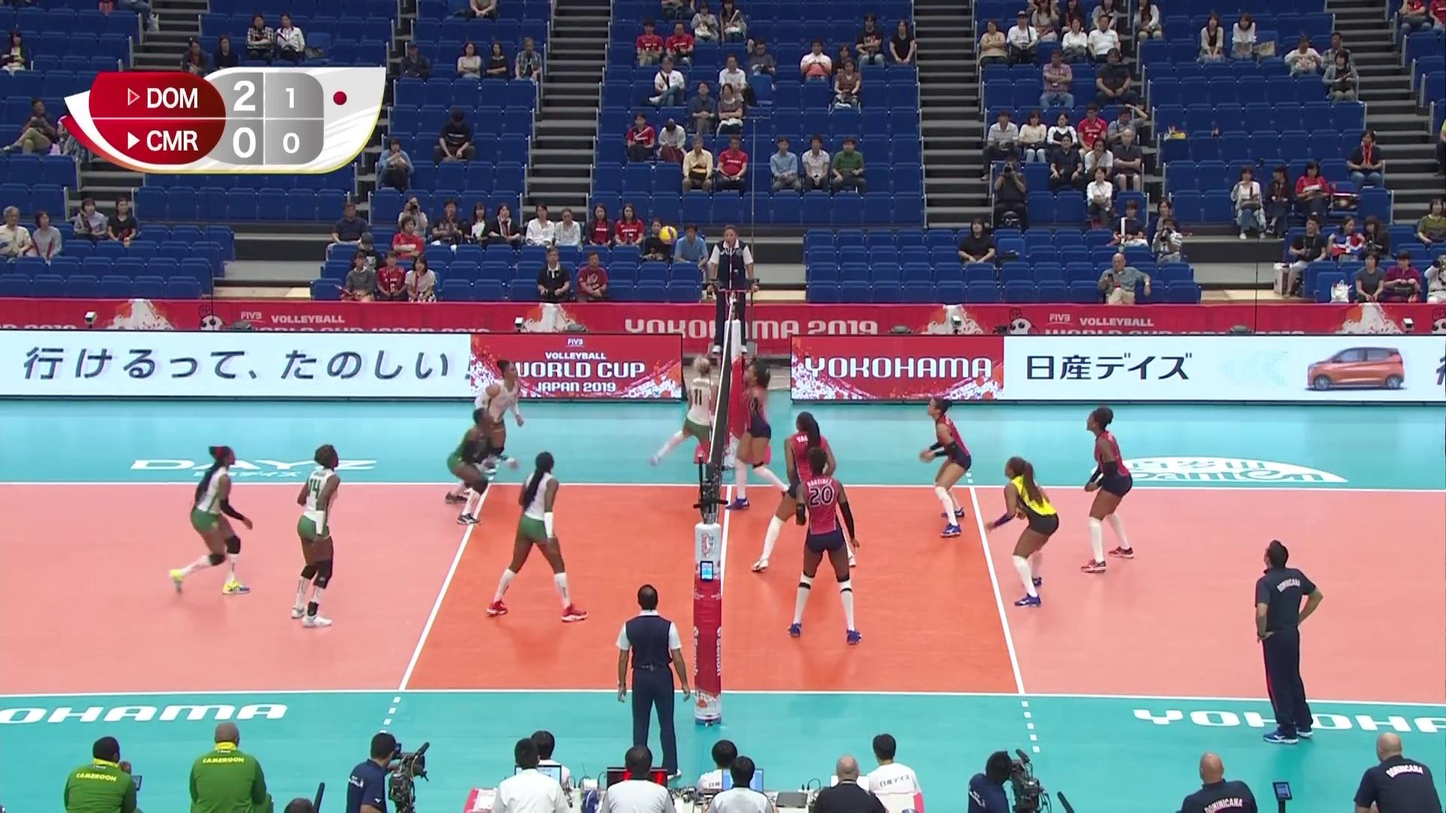player: (486, 449, 590, 623), (755, 411, 858, 572), (785, 454, 860, 642), (167, 449, 252, 598), (722, 359, 801, 512), (982, 460, 1059, 613), (451, 357, 525, 503), (286, 445, 343, 631), (1084, 411, 1143, 570), (919, 394, 978, 540), (650, 350, 719, 472), (450, 403, 508, 525)
refree: (616, 589, 689, 769), (710, 228, 750, 355)
